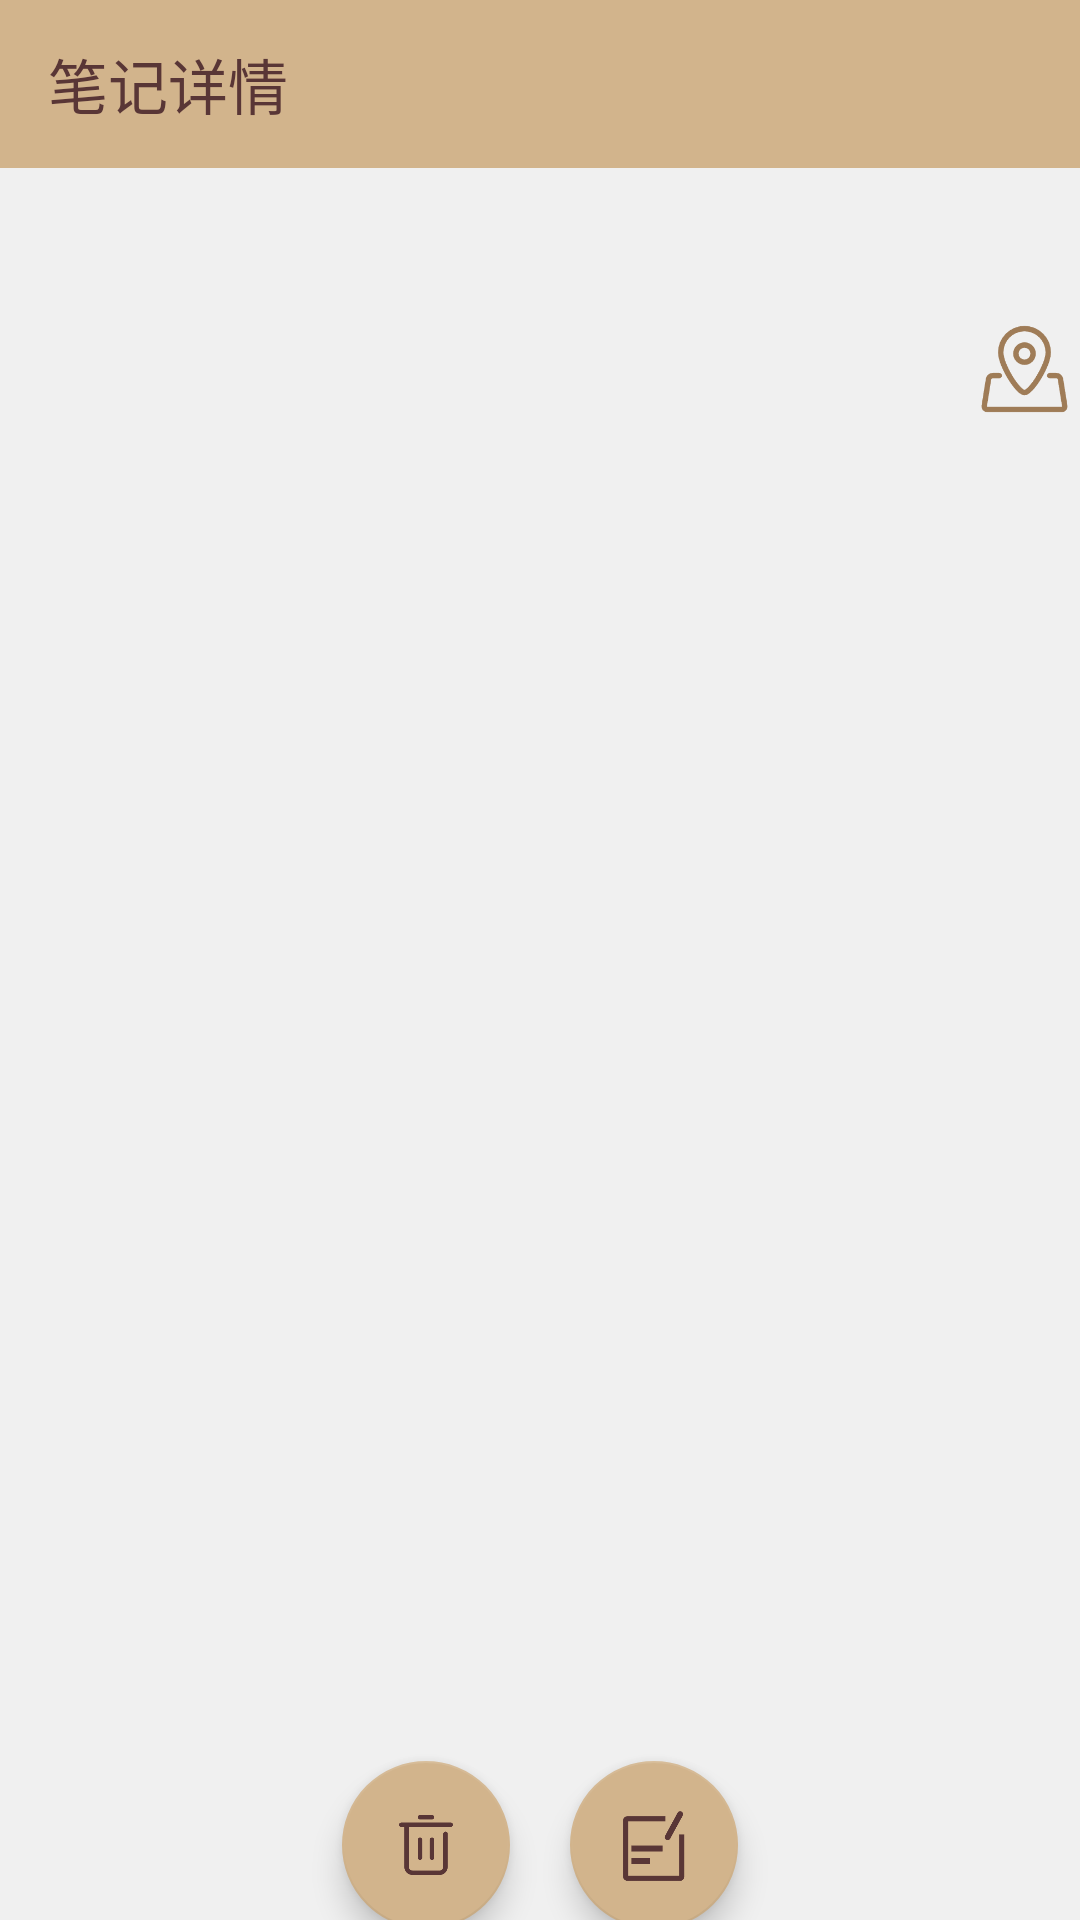

Point at icon controls on the screen. Image size 1080w x 1920h, points as (x=x, y=y).
location: (x=1024, y=369)
删除笔记: (x=426, y=1840)
编辑笔记: (x=654, y=1840)
